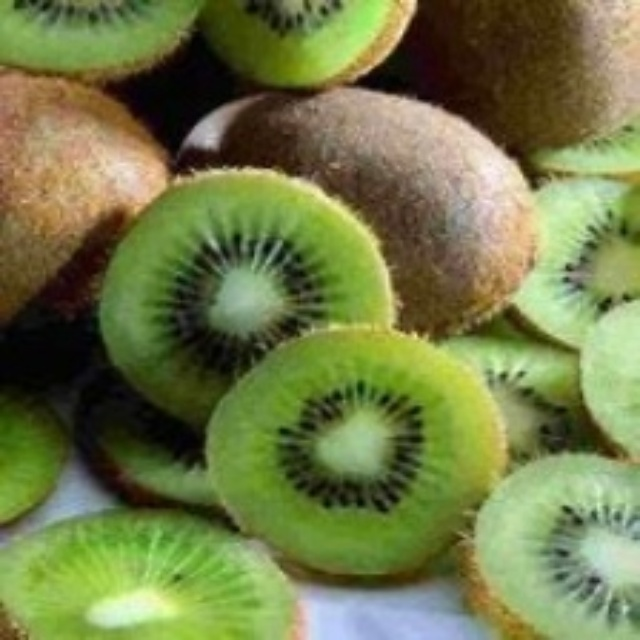kiwi: (109, 180, 493, 580), (448, 122, 638, 630), (244, 81, 545, 335), (9, 57, 168, 367), (426, 5, 639, 170)
